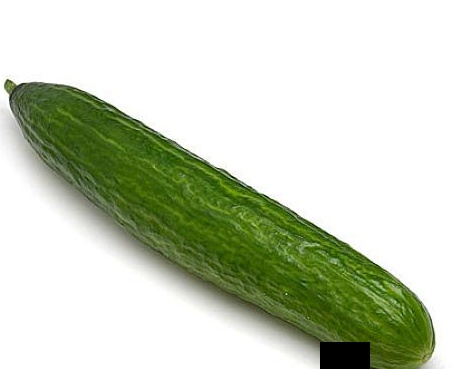cucumber: (1, 75, 433, 369)
